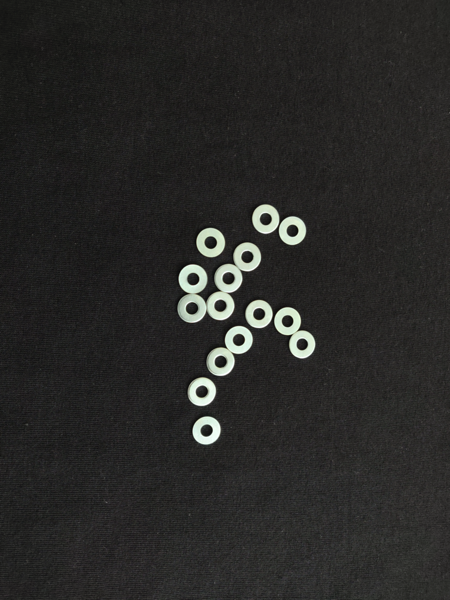circles: (244, 298, 276, 331), (287, 330, 320, 362), (272, 305, 304, 338), (205, 346, 237, 379), (186, 376, 218, 409), (224, 325, 255, 358), (192, 415, 223, 448), (196, 227, 227, 258), (232, 241, 263, 272), (214, 263, 245, 294), (179, 264, 210, 295), (177, 293, 208, 324), (205, 292, 236, 323), (252, 205, 281, 236), (279, 215, 308, 246)
